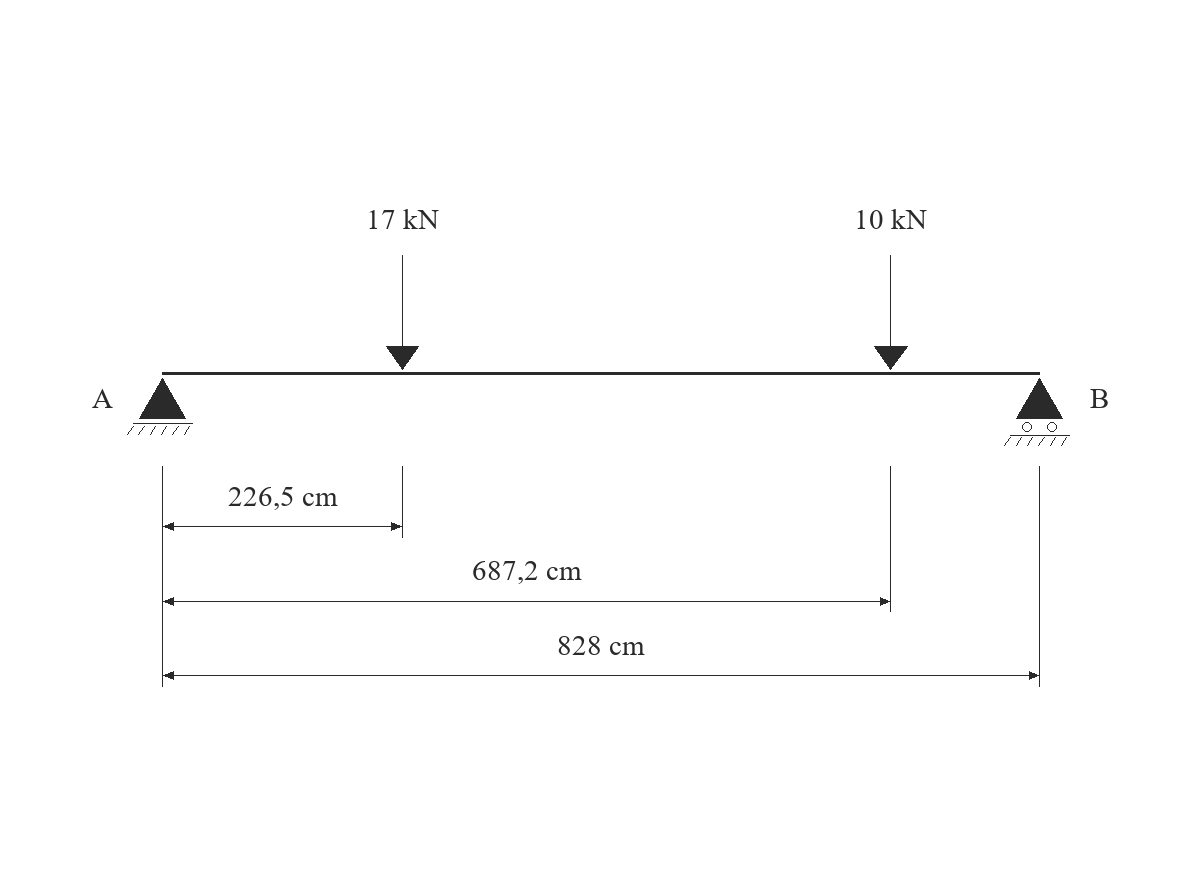pin_support: (127, 378, 193, 435)
point_load: (874, 255, 908, 370), (386, 255, 419, 370)
roller_support: (1004, 378, 1070, 446)
